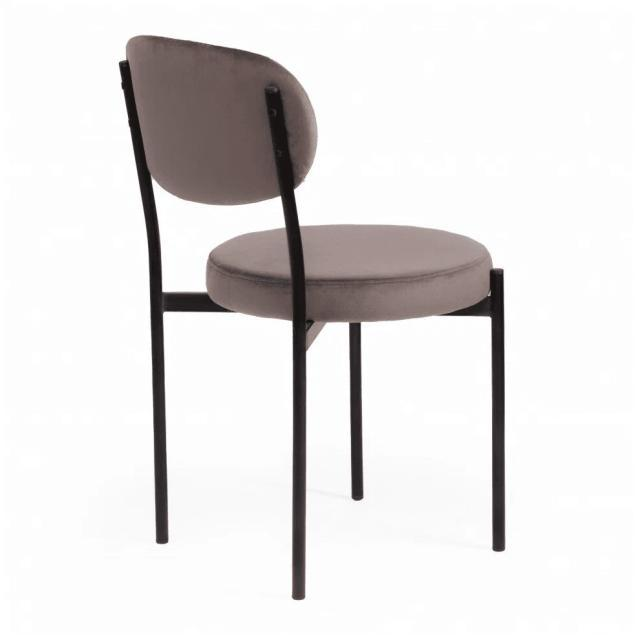chair: (117, 27, 514, 604), (118, 34, 511, 322)
